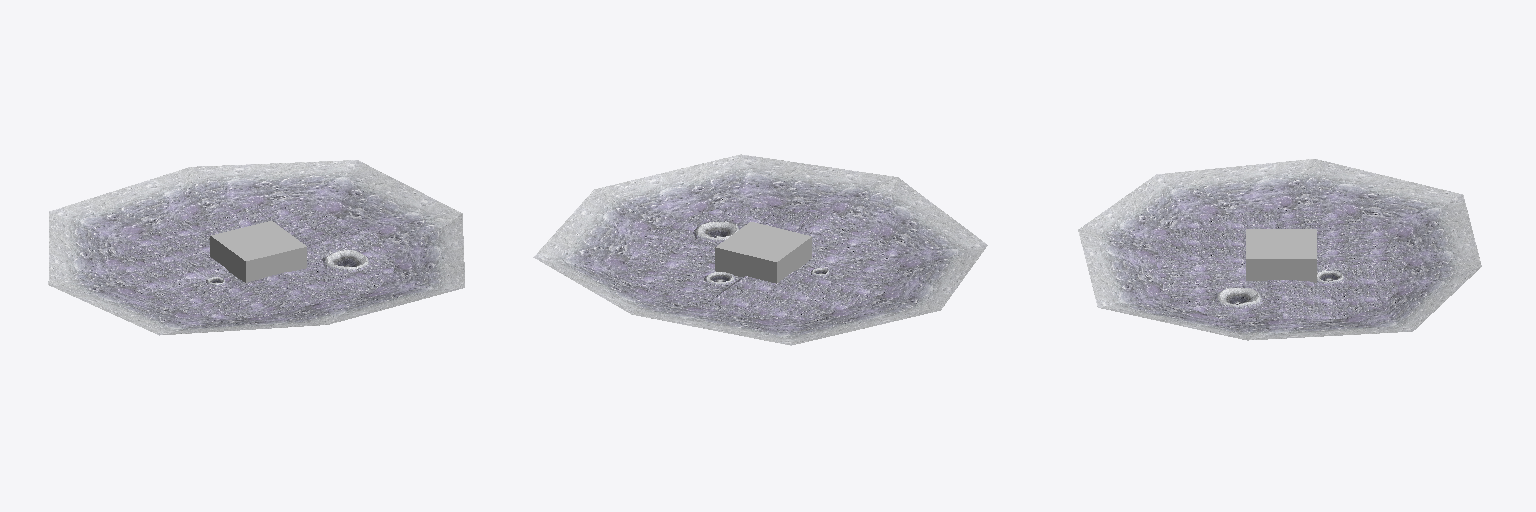
3 views of the same model, side by side, from view 1: azimuth 30°, elevation 25°; view 2: azimuth 150°, elevation 25°; view 3: azimuth 270°, elevation 25° (orthographic).
Visible parts, largest first — view 1: MoonSurface, MoonSurfaceCollisionBox; view 2: MoonSurface, MoonSurfaceCollisionBox; view 3: MoonSurface, MoonSurfaceCollisionBox.
Boxes of the visible parts, x1=… form: MoonSurface: x1=48, y1=160, x2=464, y2=335; MoonSurfaceCollisionBox: x1=210, y1=221, x2=306, y2=282; MoonSurface: x1=533, y1=154, x2=987, y2=345; MoonSurfaceCollisionBox: x1=715, y1=222, x2=811, y2=283; MoonSurface: x1=1078, y1=159, x2=1481, y2=340; MoonSurfaceCollisionBox: x1=1246, y1=229, x2=1316, y2=282.
Bounding box in the file's own units: 31040 × 2128 × 28544.
7 materials, 4 textured.